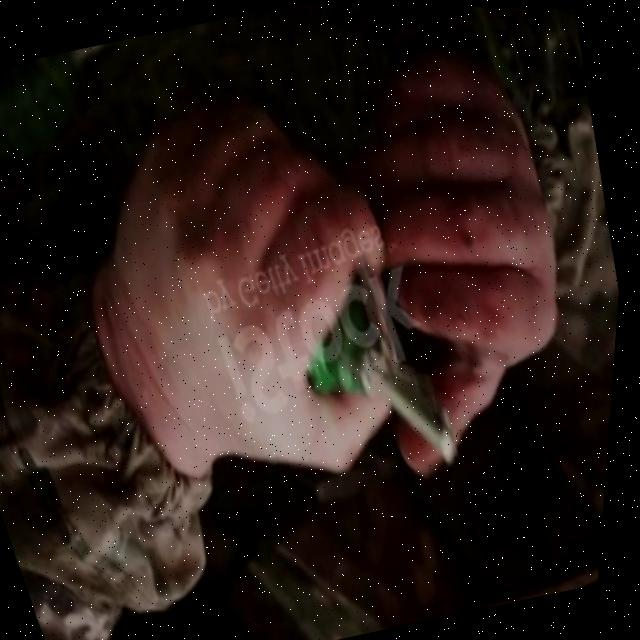grenade: (273, 242, 485, 509)
